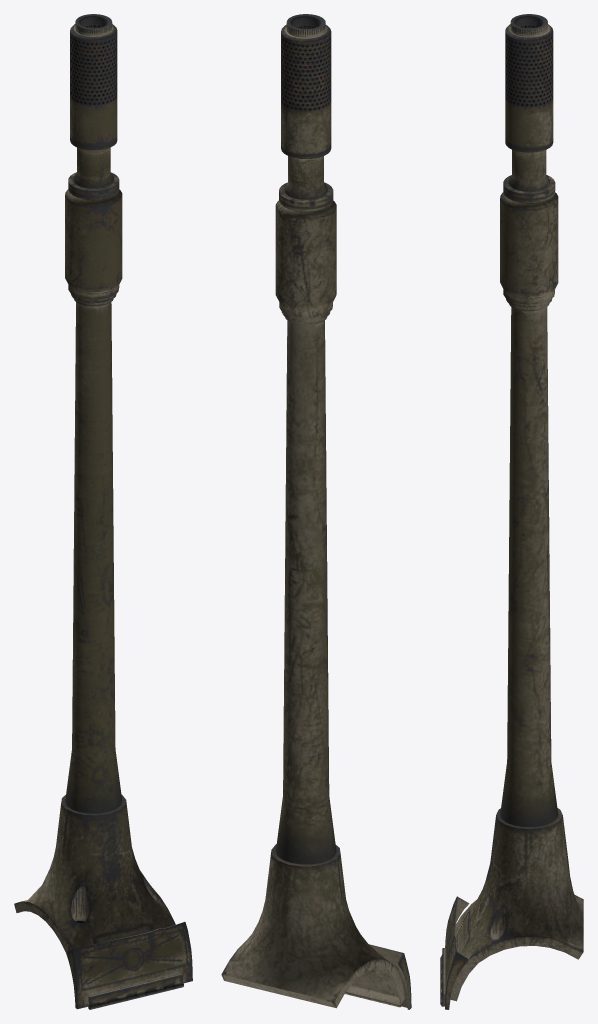
File: Gun_01.glb
The picture shows the model from 3 angles, left to right: view 1: azimuth 30°, elevation 25°; view 2: azimuth 150°, elevation 25°; view 3: azimuth 270°, elevation 25°; orthographic projection. The views are drawn at different scales.
Visible parts, largest first — view 1: set_0_group_0; view 2: set_0_group_0; view 3: set_0_group_0.
Boxes of the visible parts, x1=… form: set_0_group_0: x1=14, y1=14, x2=192, y2=1009; set_0_group_0: x1=221, y1=14, x2=411, y2=1009; set_0_group_0: x1=440, y1=14, x2=583, y2=1009.
Size of the model in its own units: 0.592 by 4.64 by 0.6267.
1 material, 1 textured.
